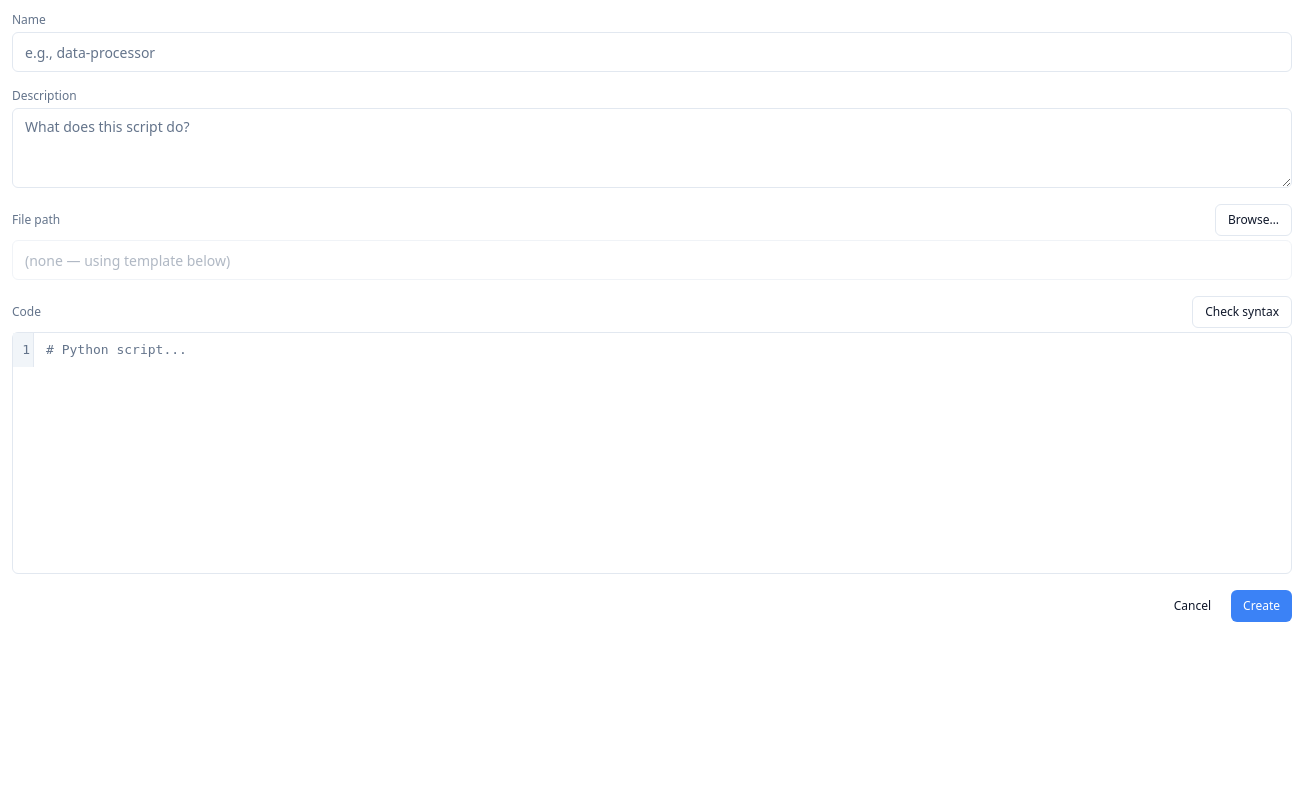
it: PythonScriptForm — Check Syntax › shows Syntax OK badge when code is valid
Click the button "Check syntax".
click(1242, 312)  # box [1192, 296, 1292, 328]
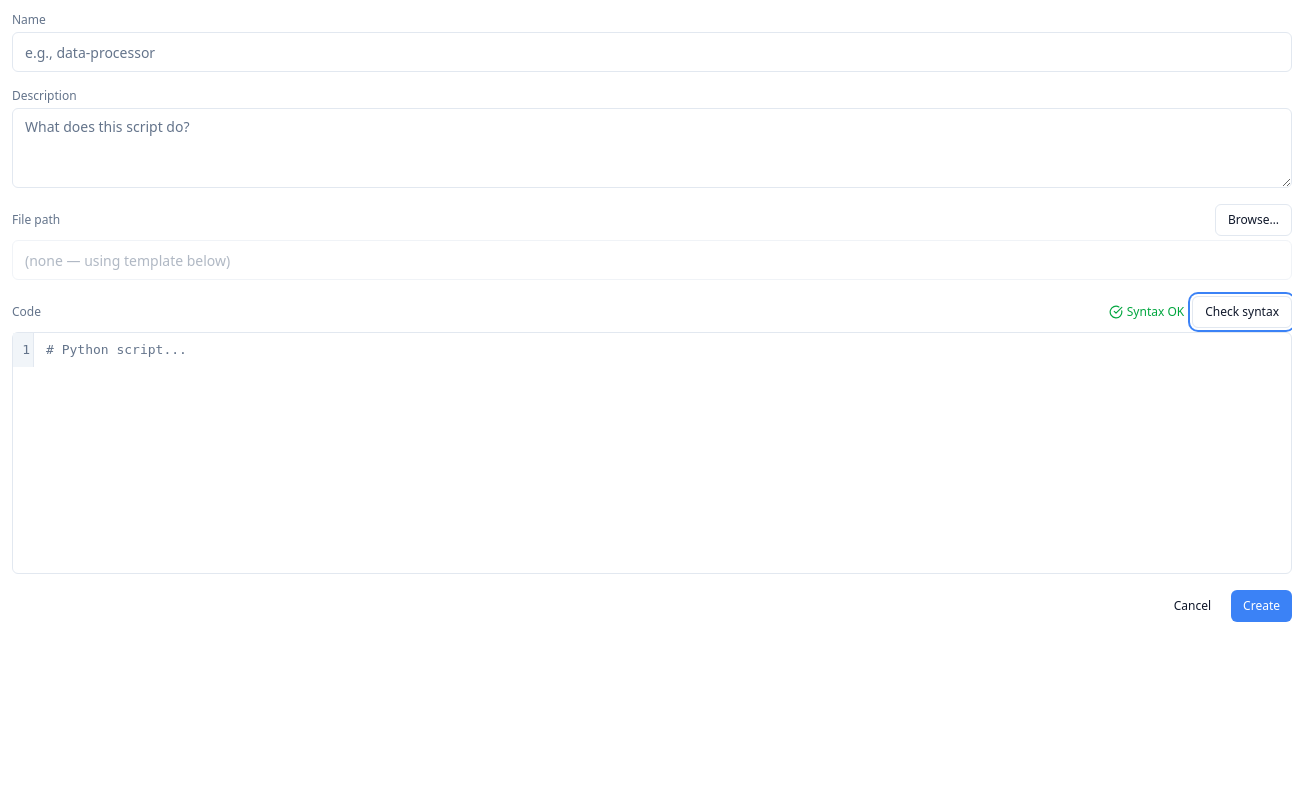
Expected: the text "Syntax OK" is shown, [1109, 304, 1184, 320]
